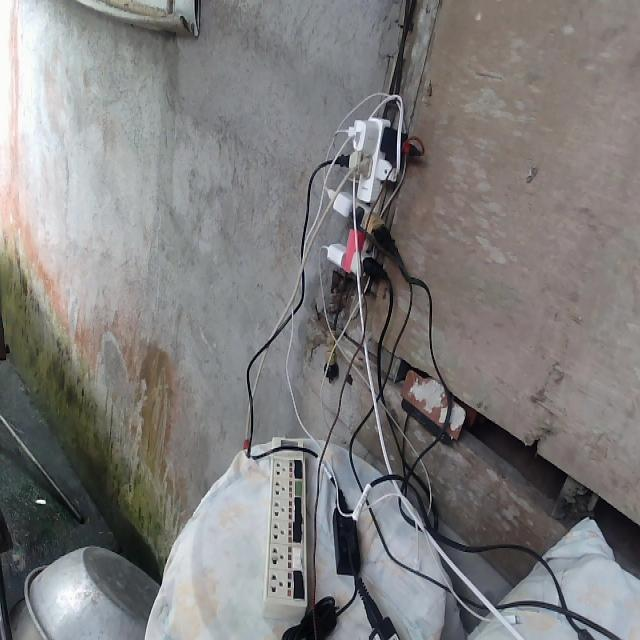-: (325, 115, 410, 276)
